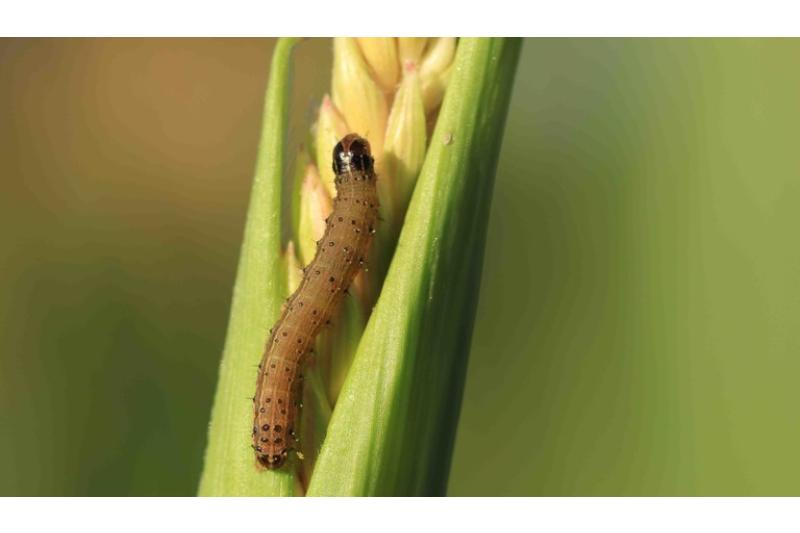fall-armyworm: (253, 134, 379, 471)
